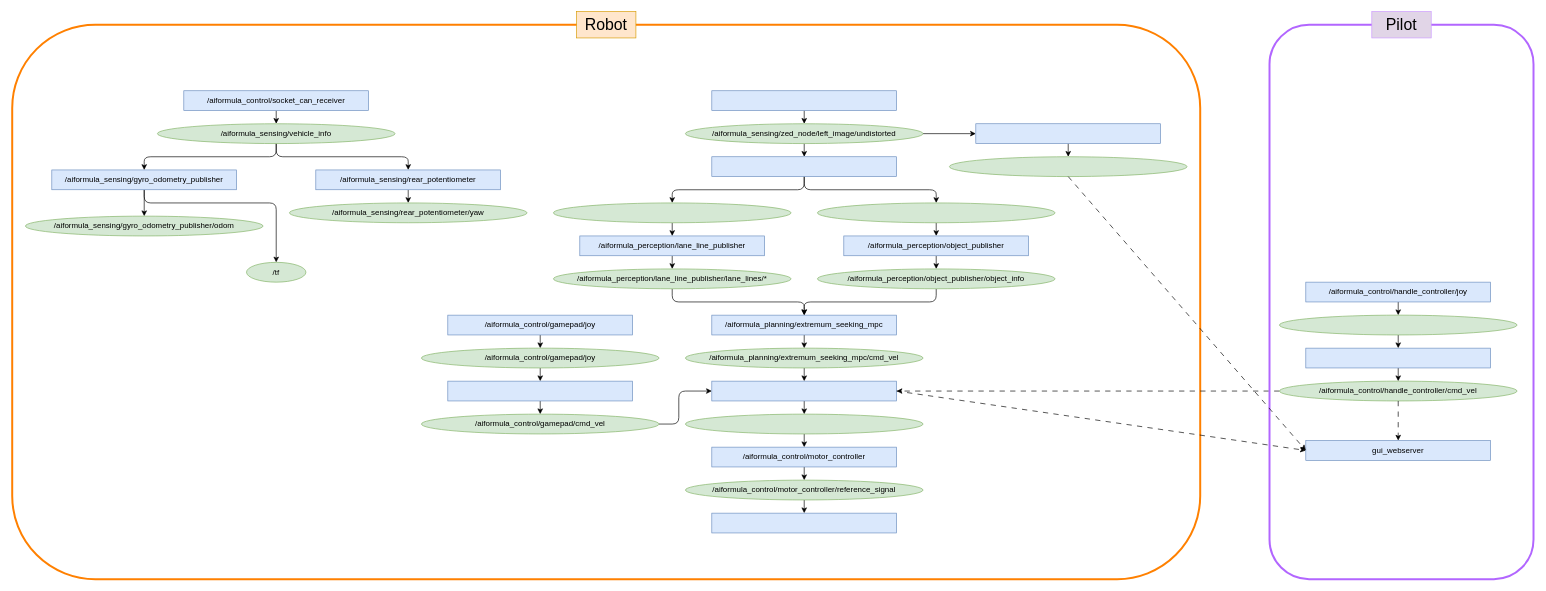
The diagram is 1546 pixels wide and 591 high, and some of its shapes have lost their labels. Here are the shapes that lost their labels. From the top down, the centre of each, then its label:
the point at 804,100: /aiformula_sensing/zed_node
the point at 1068,133: /aiformula_visualization/image_compressor
the point at 804,166: /aiformula_perception/object_road_detector
the point at 1068,166: /aiformula_ visualization /zed/left_image/compressed
the point at 672,212: /aiformula_perception/object_road_detector/mask_image
the point at 936,212: /aiformula_perception/object_road_detector/rect
the point at 1398,324: /aiformula_control/ handle_controller /joy
the point at 1398,357: /aiformula_control/ handle_controller /teleop_node
the point at 540,390: /aiformula_control/gamepad/teleop_node
the point at 804,390: /aiformula_control/twist_mux
the point at 804,423: /aiformula_control/twist_mux/cmd_vel
the point at 804,522: /aiformula_control/socket_can_sender
